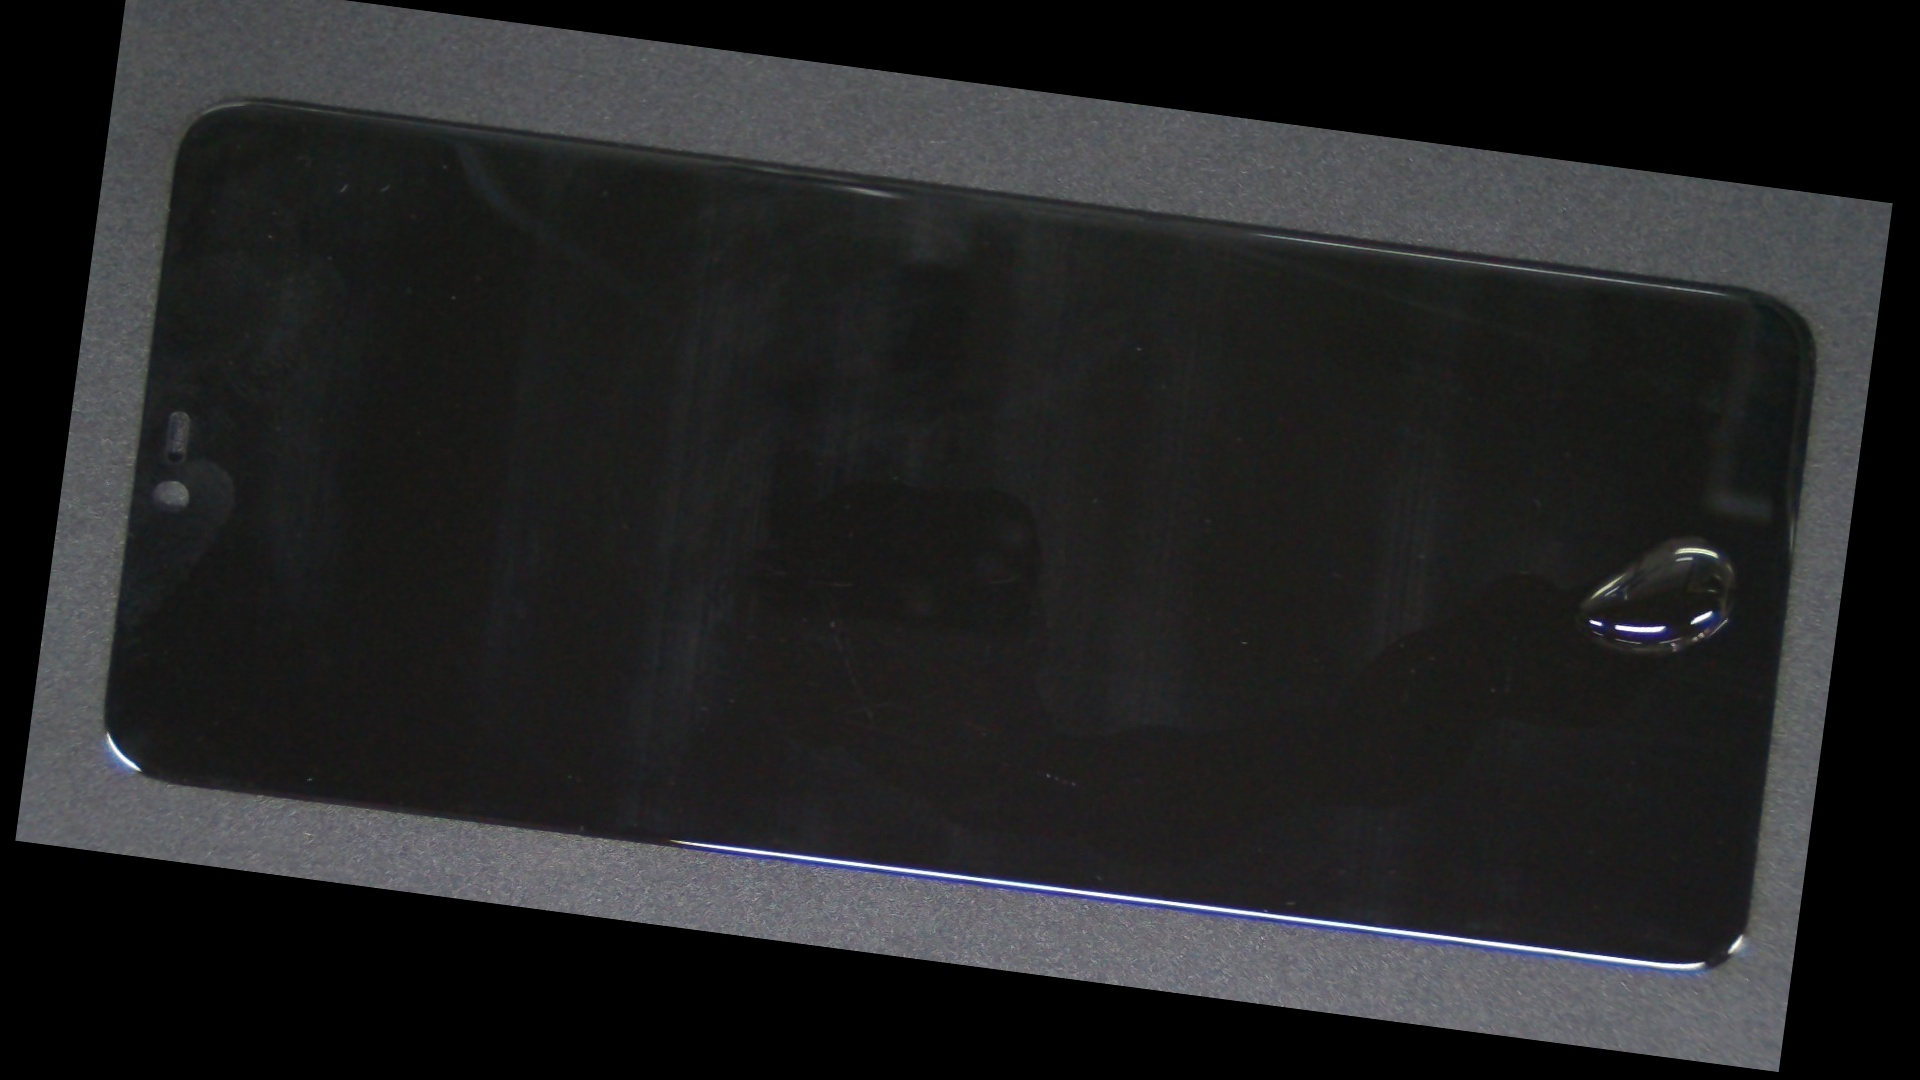oil: (866, 255, 1870, 735)
